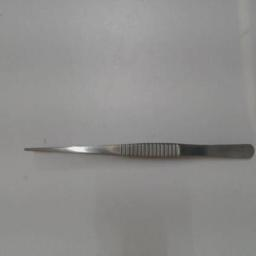DeBakey Dissector: (11, 132, 253, 168)
